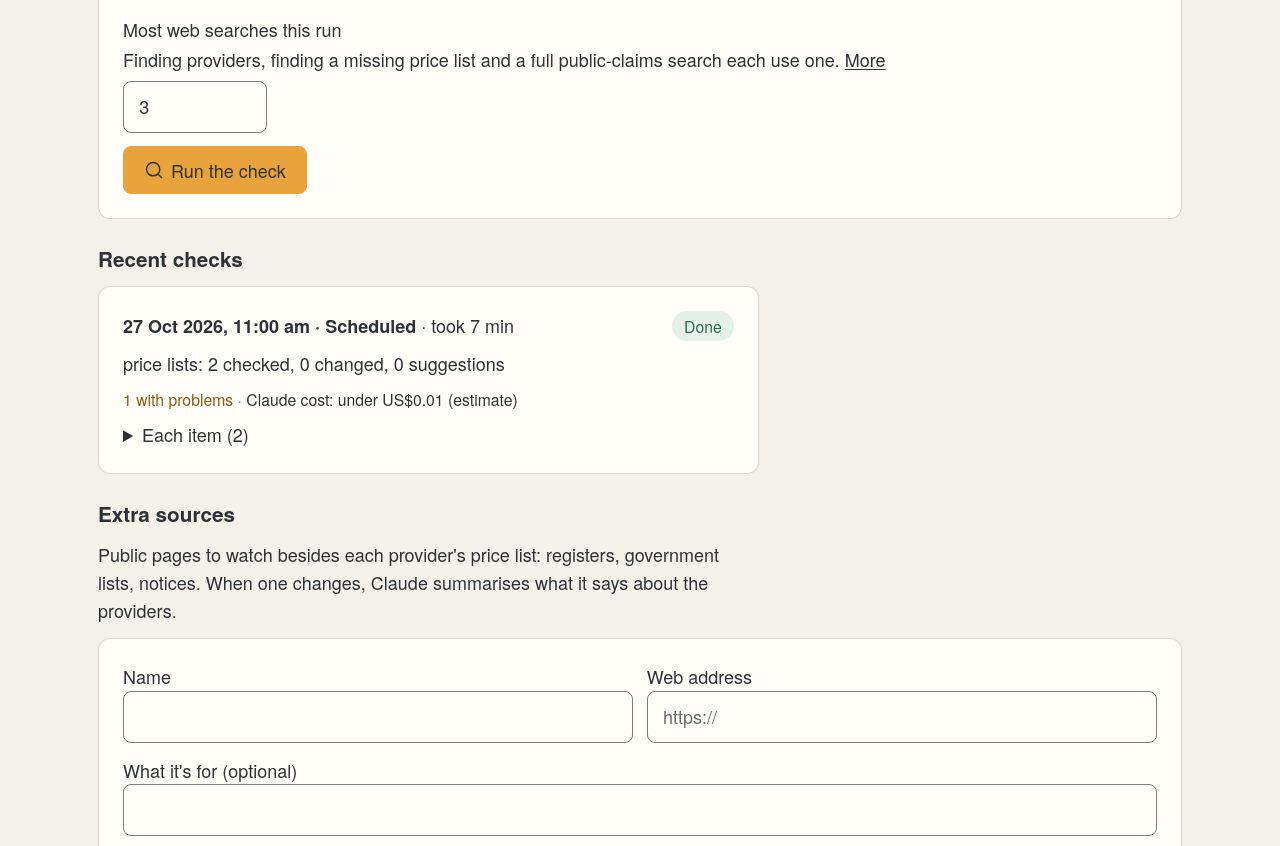
Test: Data checks (admin) › lists each item of a finished check, problems first
(page scrolled)
Expected: the text "· took 7 min" is shown, [416,312,514,338]
Expected: the text "1 with problems ·" is shown, [123,388,246,410]
Click the heading "Each item (2)": point(196, 434) [142,421,249,447]
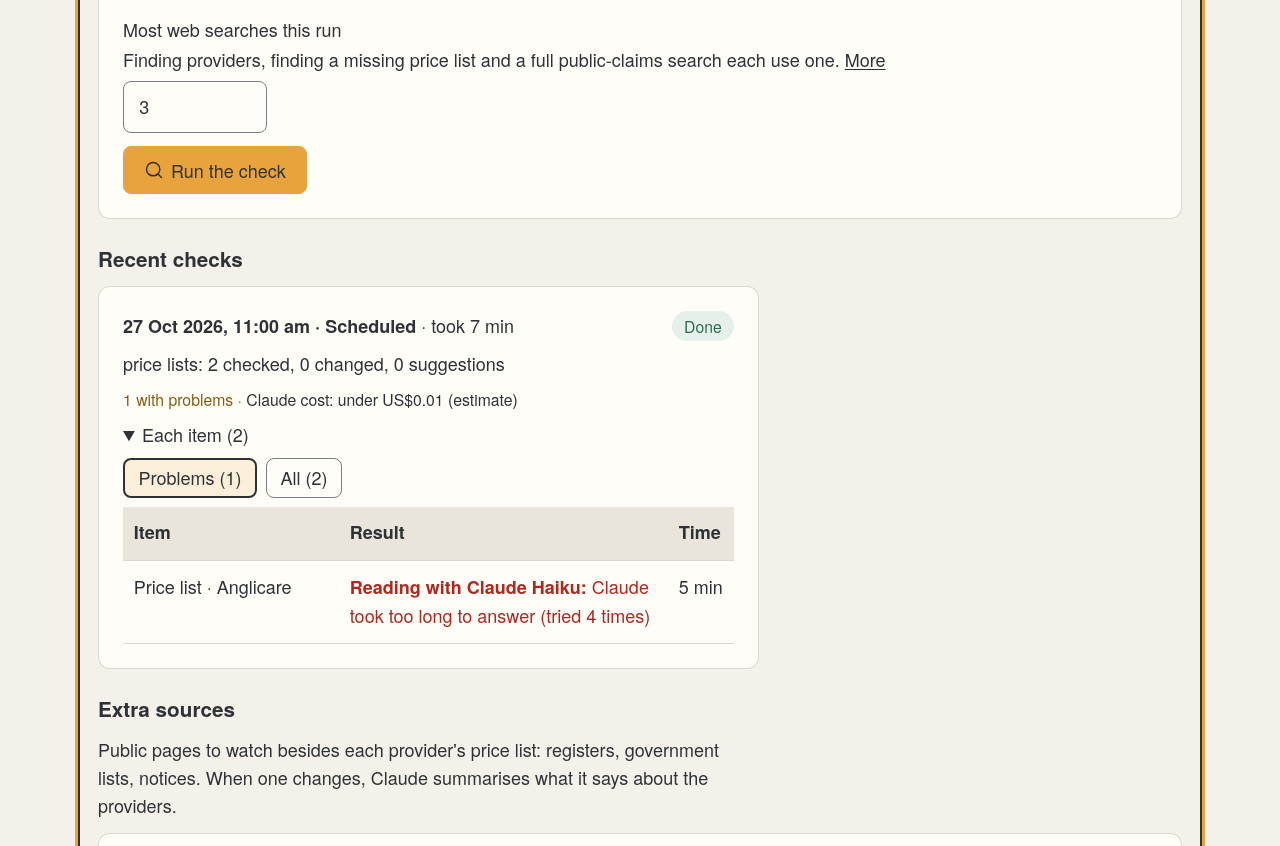
Expected: the table does not show "Bolton Clarke", [123,507,734,644]
Result: the table shows "Reading with Claude Haiku: Claude took too long to answer (tried 4 times)" at [123,507,734,644]
Click the button "All (2)": point(304, 478) [266,458,342,498]
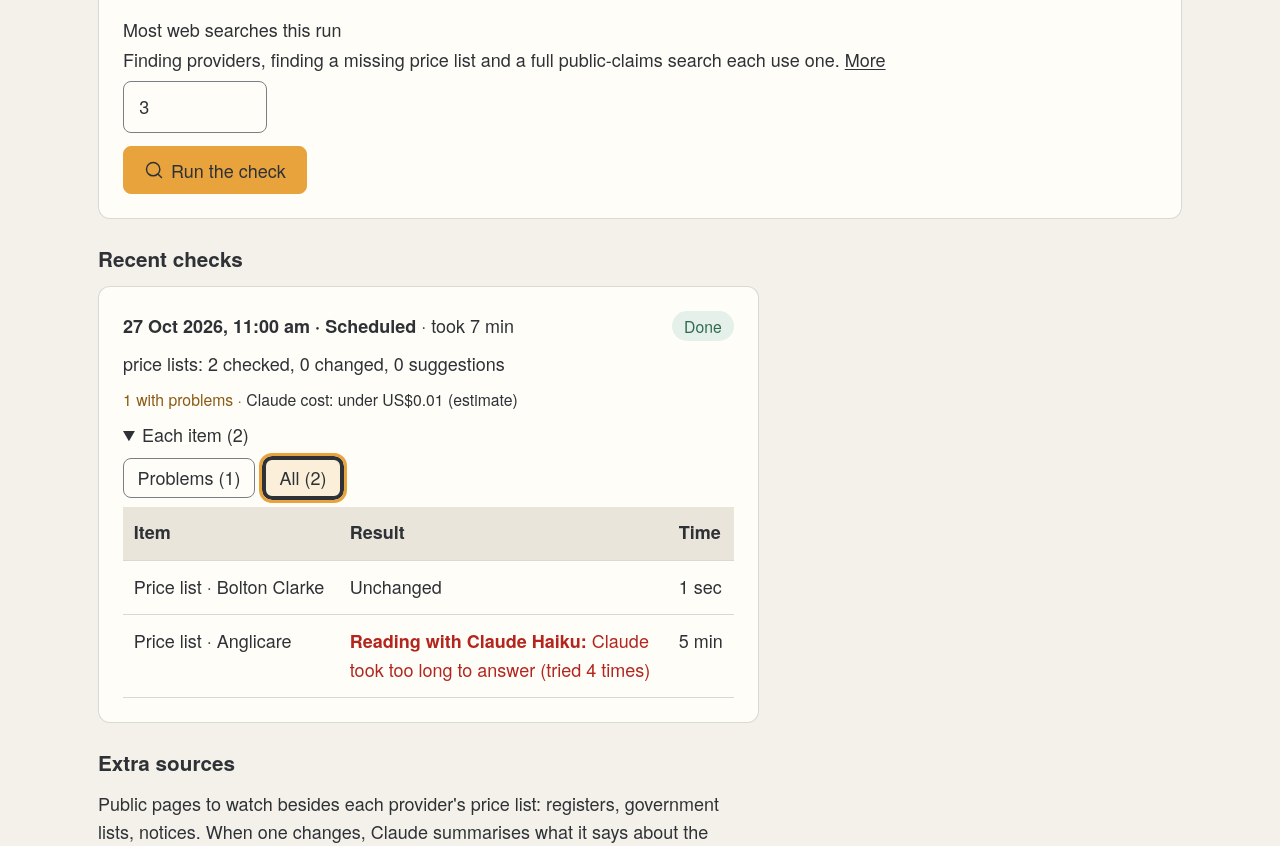
Result: the table shows "Bolton Clarke" at [134,573,324,599]
